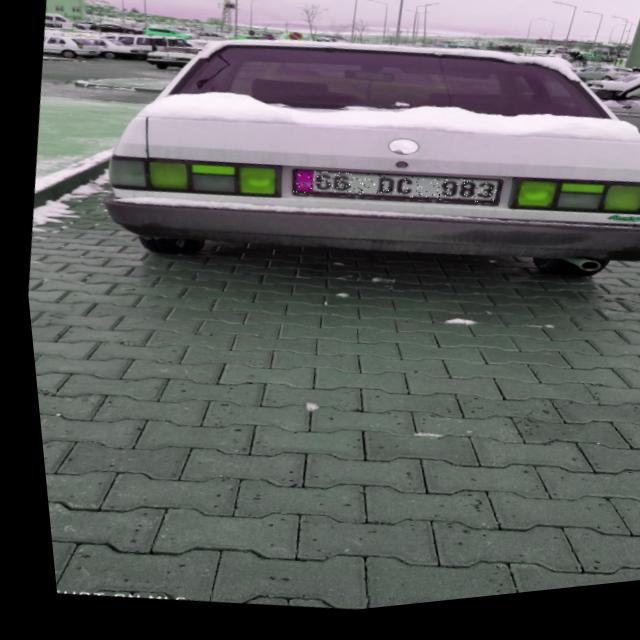license_plate: (286, 159, 498, 230)
